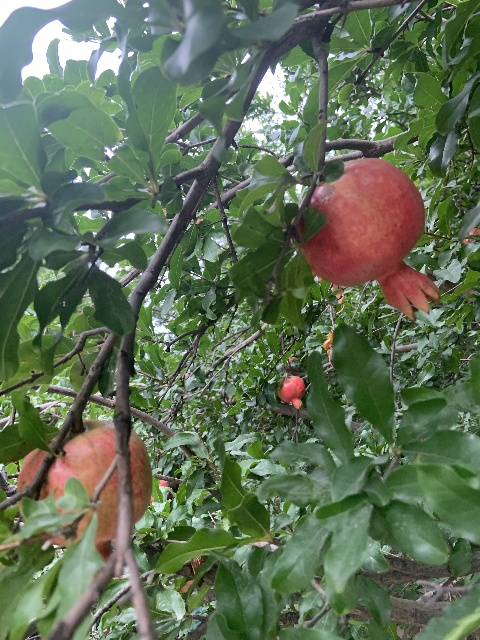ripe: (298, 157, 439, 320), (16, 420, 151, 563), (276, 375, 305, 408)
